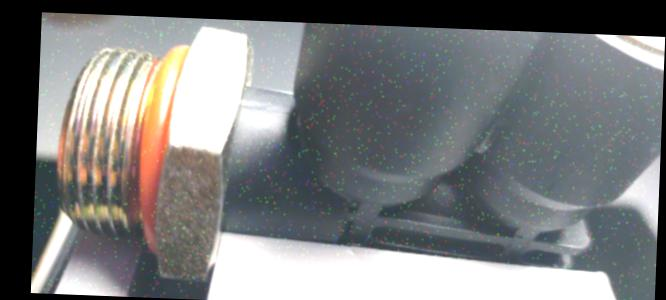joint line: (273, 106, 291, 117)
white mark: (241, 97, 271, 108)
